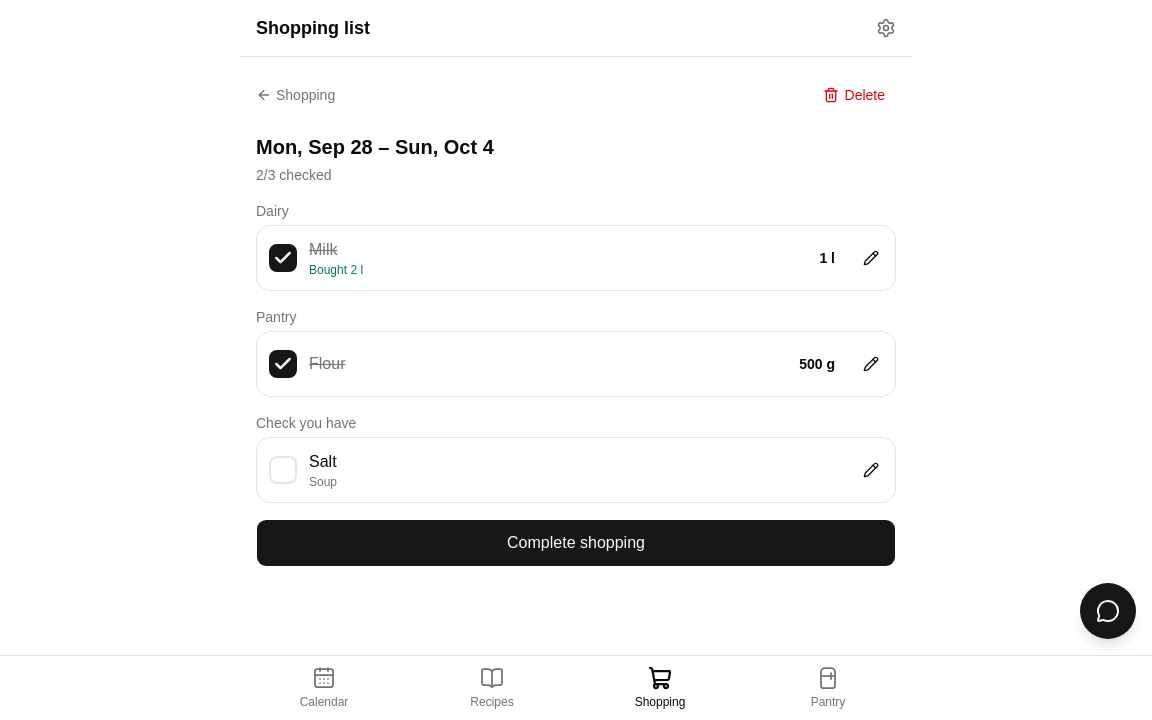
Scenario: shopping checklist › completes with a summary, then invalidates stock and shows the count
The width and height of the screenshot is (1152, 720).
Click the button "Complete shopping" at (576, 543), box top-left (256, 519), bottom-right (896, 567)
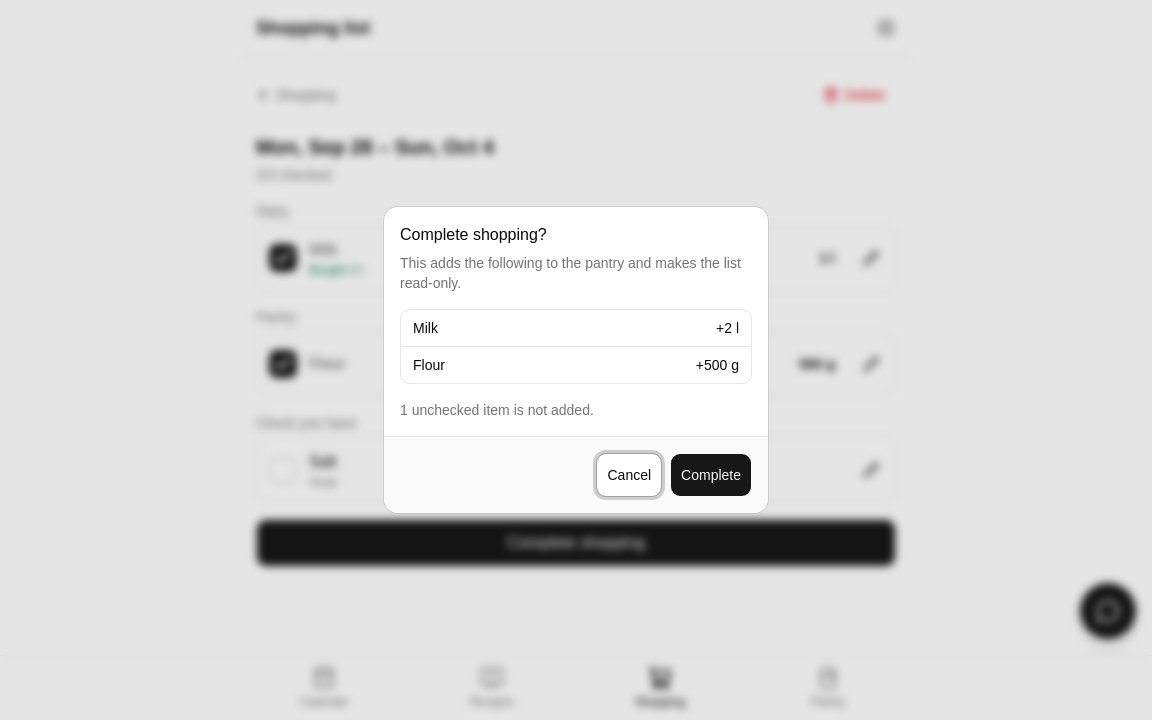
Expected: the list items read "Milk+2 l", "Flour+500 g", in this order, top-left (401, 310), bottom-right (751, 347); top-left (413, 357), bottom-right (739, 373)
Expected: the text "1 unchecked item is not added." is shown, top-left (400, 402), bottom-right (594, 418)
Click the button "Complete" at (711, 475), box top-left (670, 453), bottom-right (752, 497)
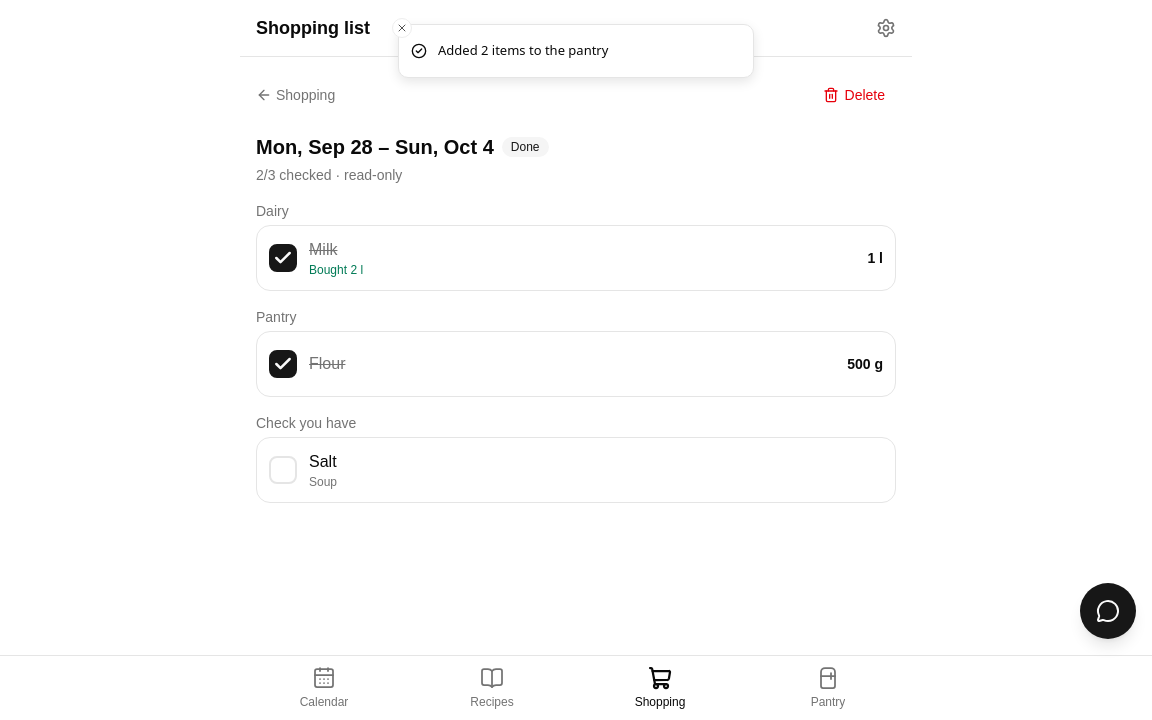
Expected: the text "Added 2 items to the pantry" is shown, top-left (438, 41), bottom-right (608, 60)
Expected: the icon "Done" is shown, top-left (502, 137), bottom-right (548, 157)
Expected: the button "Complete shopping" is gone
